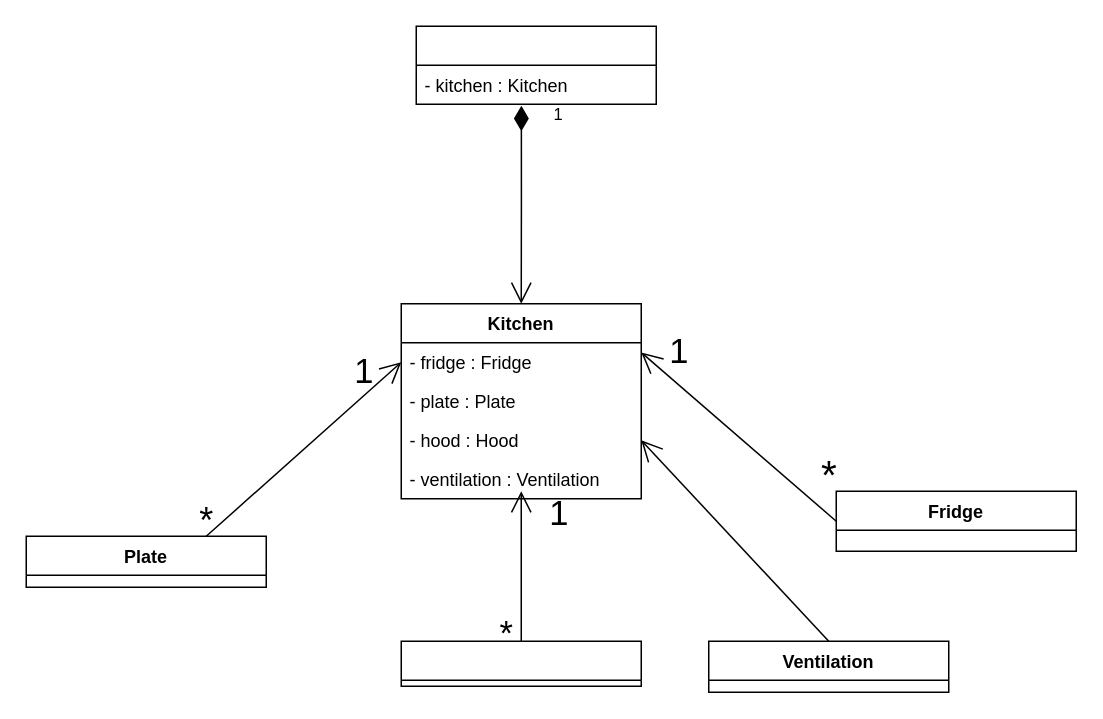
The diagram is 1103 pixels wide and 719 high, and some of its shapes have lost their labels. The box of each missing label's shape, as (x1, y1, x2, y2) in pixels:
Hood: (400, 640, 641, 686)
Restaurant: (415, 25, 656, 104)
